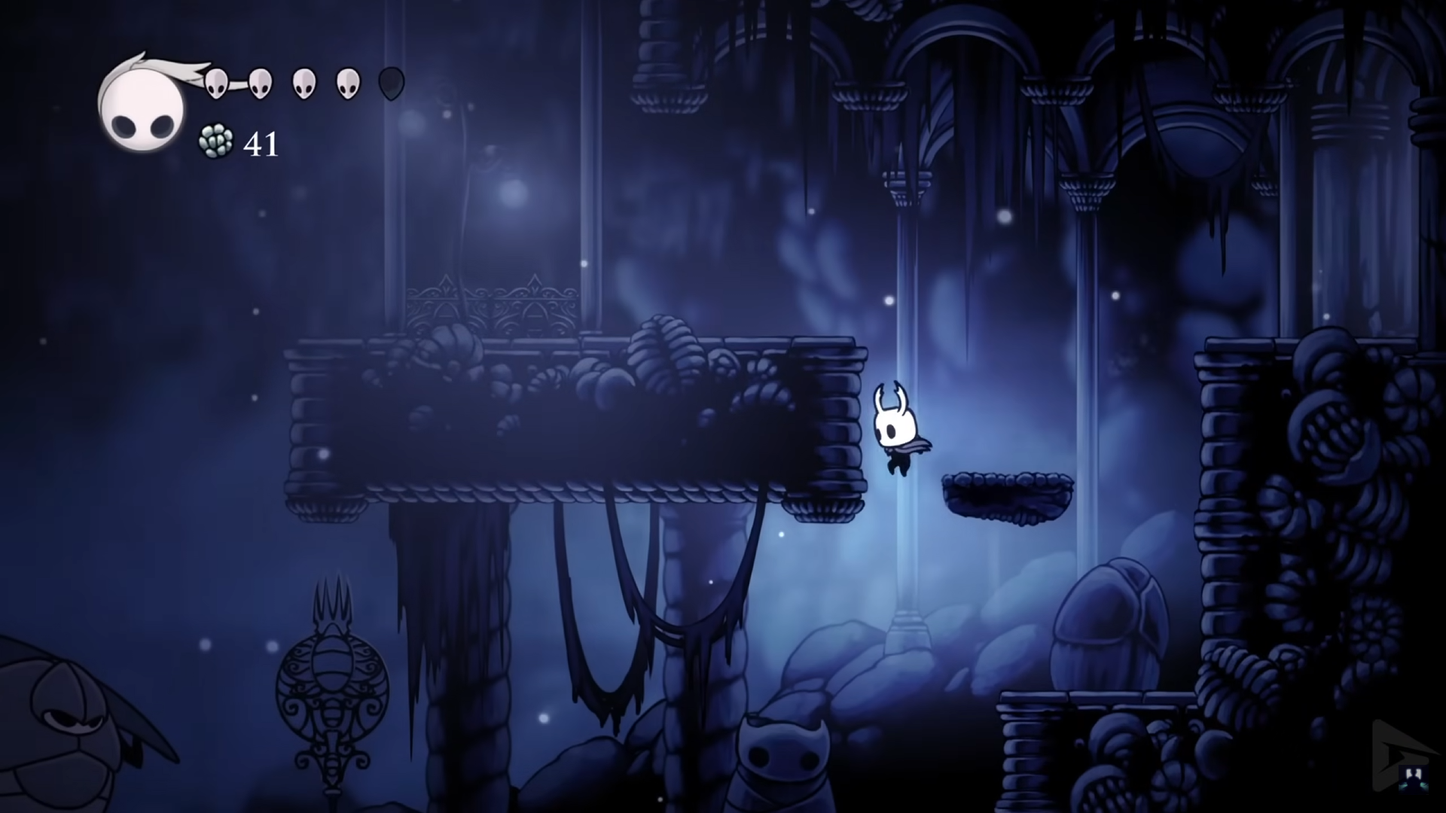HK: (868, 379, 929, 479)
